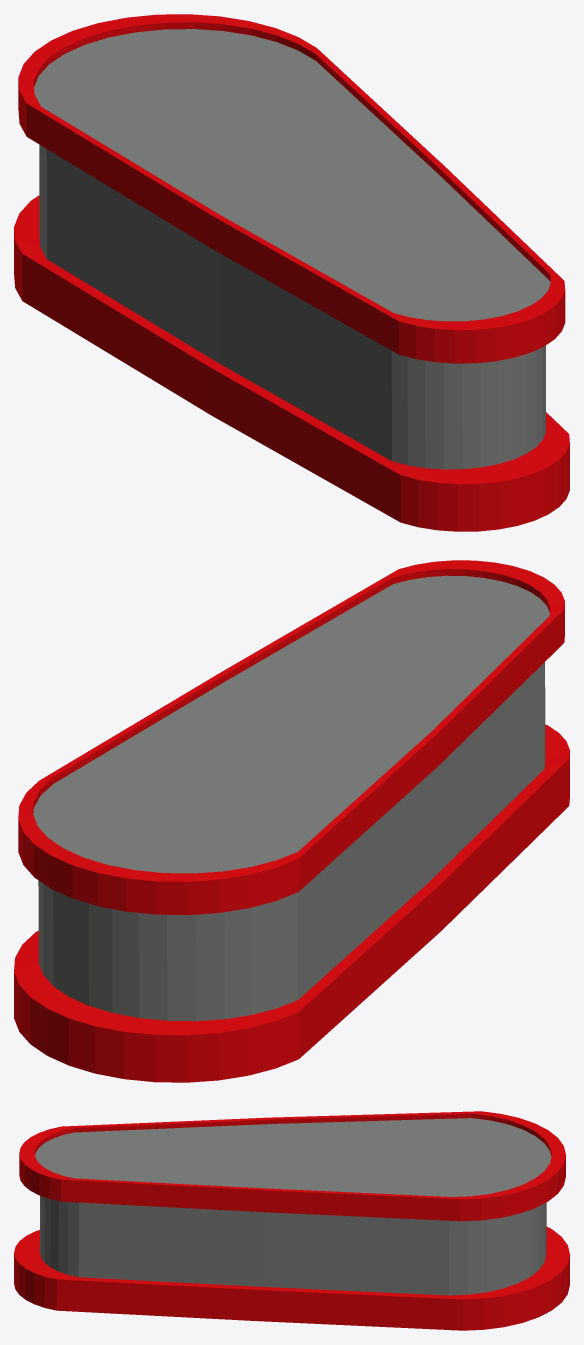
The model's file is Paddle.fbx.
3 renders of one model, top to bottom at view 1: azimuth 30°, elevation 25°; view 2: azimuth 150°, elevation 25°; view 3: azimuth 270°, elevation 25°, orthographic. The views are drawn at different scales.
Visible parts, largest first — view 1: Circle.001; view 2: Circle.001; view 3: Circle.001.
Boxes of the visible parts, x1,y1,x2,y2 form: Circle.001: (14,14,569,531); Circle.001: (14,560,569,1082); Circle.001: (14,1111,569,1330).
Size of the model in its own units: 198 by 136 by 519.
